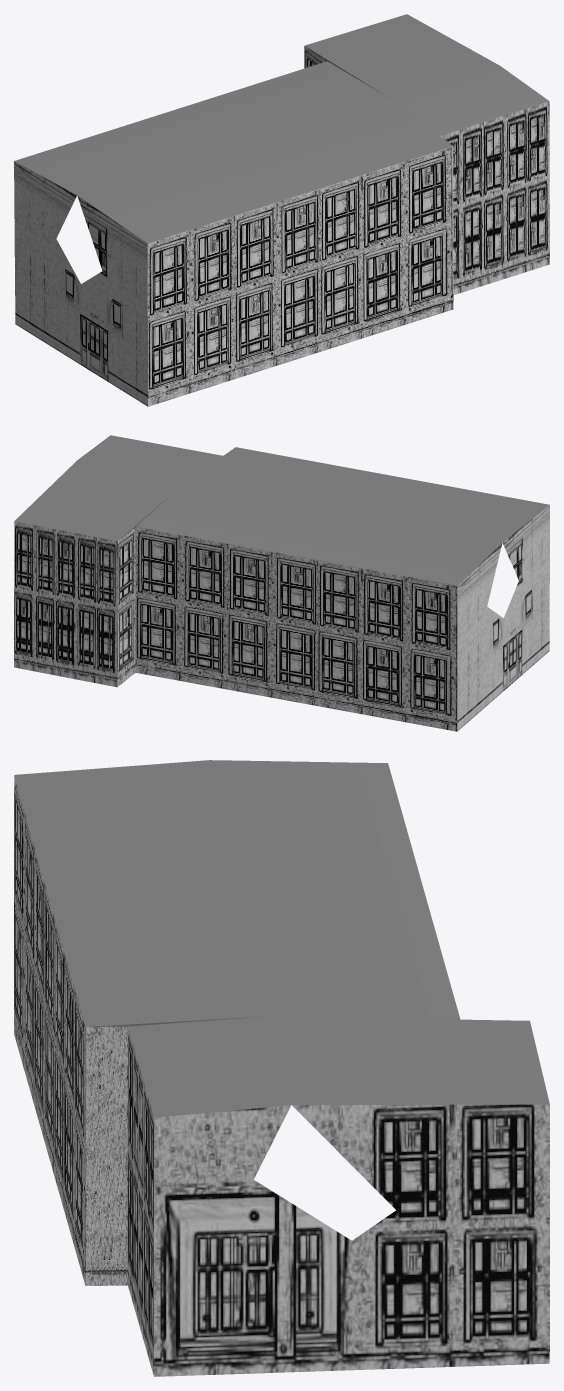
File: Neuffer-Bau.gltf
The picture shows the model from 3 angles, top to bottom: view 1: azimuth 30°, elevation 25°; view 2: azimuth 150°, elevation 25°; view 3: azimuth 270°, elevation 25°; orthographic projection. The views are drawn at different scales.
Parts seen in each view (by area): view 1: Dach.1; view 2: Dach.1; view 3: Dach.1.
Part boxes in pixels (box(x1,y1,x2,y2)): Dach.1: box(14, 14, 549, 406); Dach.1: box(14, 435, 549, 731); Dach.1: box(14, 760, 549, 1376).
Size of the model in its own units: 37.29 by 13.1 by 23.66.
Materials: 8 (7 with a texture image).
